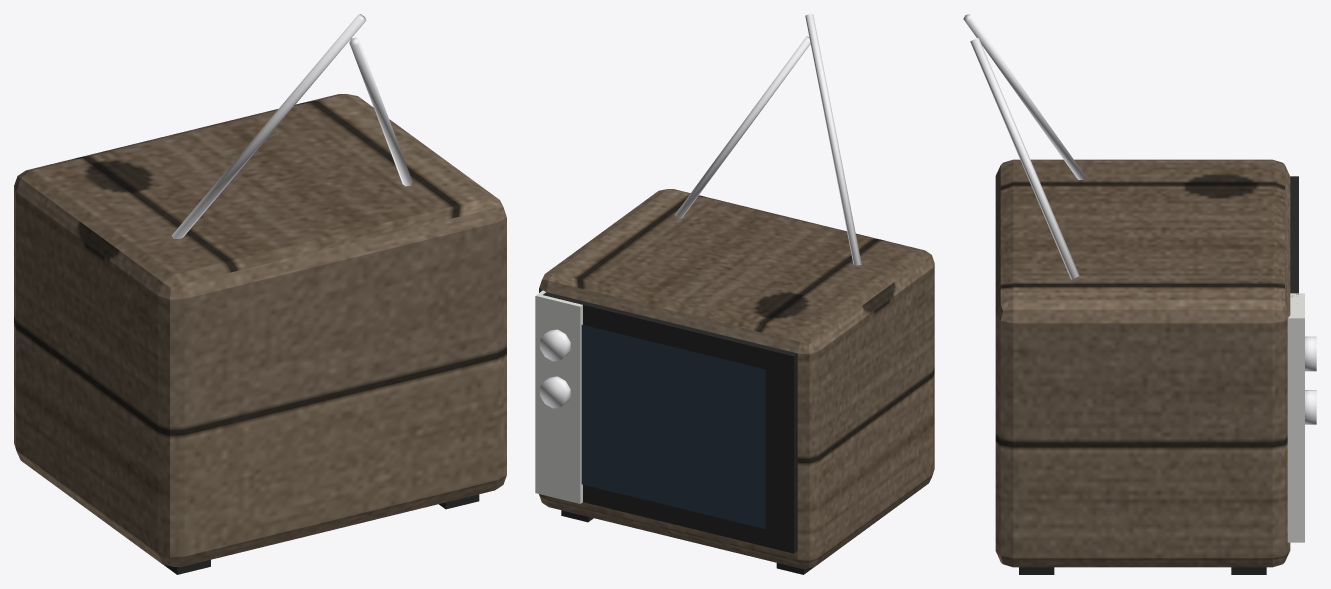
Rendered from WK_PRP_OldTV.glb.
3 renders of one model, left to right at view 1: azimuth 30°, elevation 25°; view 2: azimuth 150°, elevation 25°; view 3: azimuth 270°, elevation 25°, orthographic. The views are drawn at different scales.
Parts seen in each view (by area): view 1: WK_PRP_OldTV_P01, WK_PRP_OldTV_P11, WK_PRP_OldTV_P12; view 2: WK_PRP_OldTV_P01, WK_PRP_OldTV_P03, WK_PRP_OldTV_P02, WK_PRP_OldTV_P04, WK_PRP_OldTV_P11, WK_PRP_OldTV_P12, WK_PRP_OldTV_P05, WK_PRP_OldTV_P06; view 3: WK_PRP_OldTV_P01, WK_PRP_OldTV_P04, WK_PRP_OldTV_P12, WK_PRP_OldTV_P11, WK_PRP_OldTV_P02.
Boxes of the visible parts, <box> form: WK_PRP_OldTV_P01: <box>14,94,506,566</box>; WK_PRP_OldTV_P11: <box>172,14,366,238</box>; WK_PRP_OldTV_P12: <box>349,37,412,186</box>; WK_PRP_OldTV_P01: <box>539,189,934,568</box>; WK_PRP_OldTV_P03: <box>581,325,765,528</box>; WK_PRP_OldTV_P02: <box>543,292,797,553</box>; WK_PRP_OldTV_P04: <box>535,290,582,503</box>; WK_PRP_OldTV_P11: <box>805,14,861,265</box>; WK_PRP_OldTV_P12: <box>675,36,810,218</box>; WK_PRP_OldTV_P05: <box>540,329,570,361</box>; WK_PRP_OldTV_P06: <box>540,376,570,408</box>; WK_PRP_OldTV_P01: <box>995,159,1290,567</box>; WK_PRP_OldTV_P04: <box>1287,293,1304,542</box>; WK_PRP_OldTV_P12: <box>970,38,1079,279</box>; WK_PRP_OldTV_P11: <box>963,14,1086,179</box>; WK_PRP_OldTV_P02: <box>1290,176,1298,297</box>.
Bounding box in the file's own units: 0.62 × 0.9268 × 0.5997.
5 materials, 1 textured.
